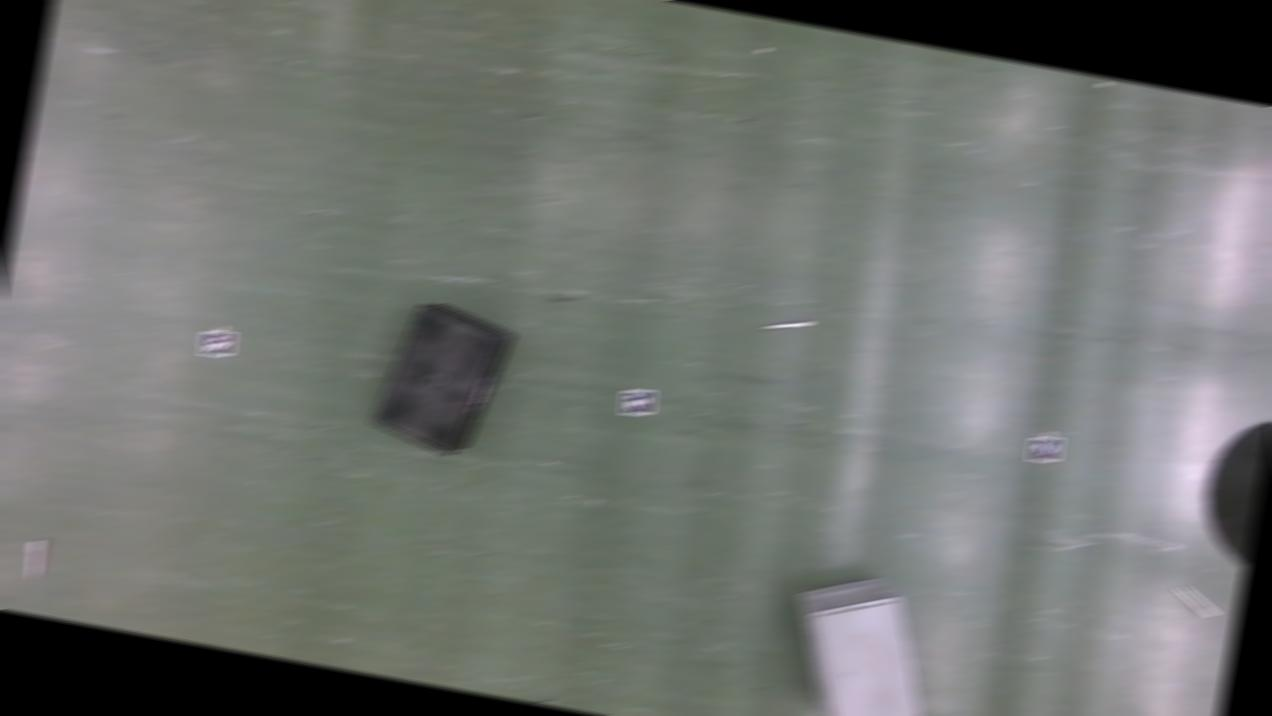probes: (1173, 584, 1220, 616), (768, 313, 813, 334), (25, 540, 44, 578)
rako: (772, 562, 944, 716), (367, 293, 518, 461)
